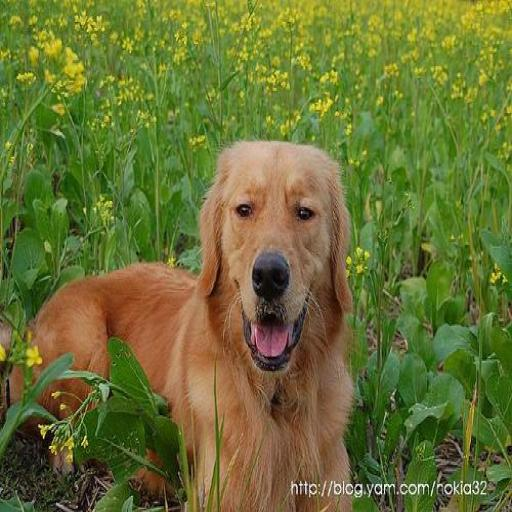dog_face: (198, 139, 348, 354)
